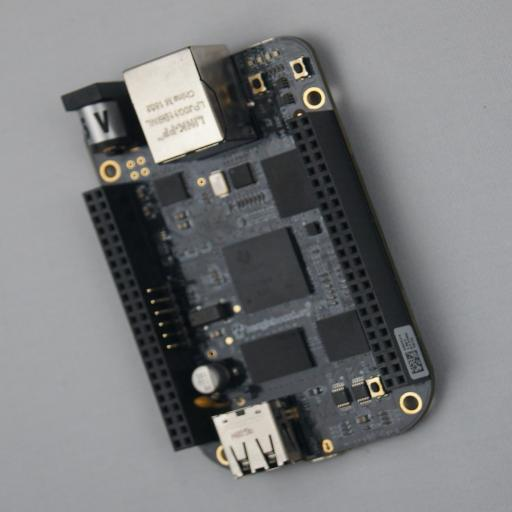Beaglebone Black: (61, 36, 450, 476)
